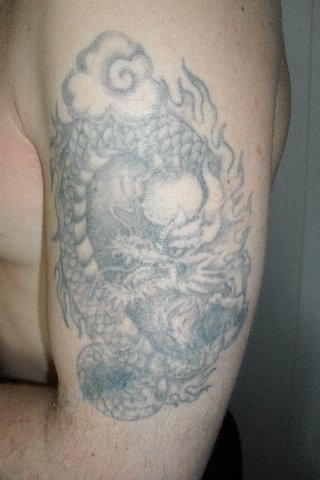tatu6_drakon: (41, 22, 255, 423)
